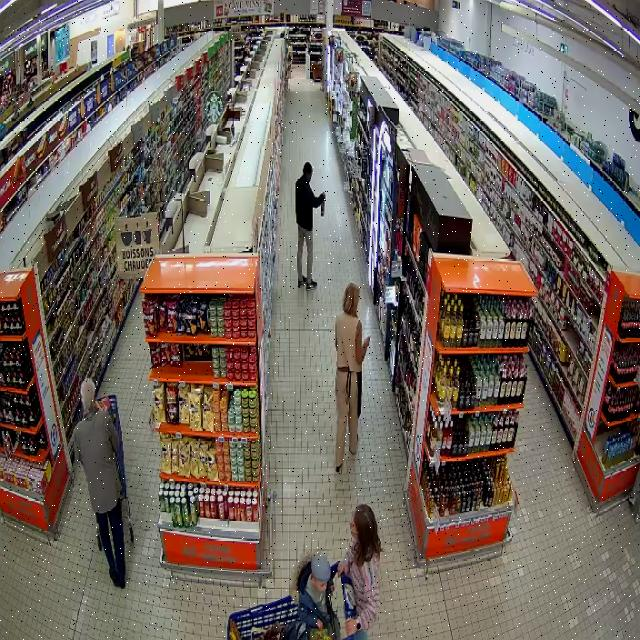article: (321, 200, 325, 217)
hands: (346, 618, 358, 636), (337, 560, 345, 576), (364, 337, 369, 348), (330, 584, 335, 594), (320, 192, 325, 201), (318, 620, 322, 629)
person: (75, 378, 124, 588), (335, 282, 369, 472), (338, 504, 381, 639), (287, 553, 339, 639), (295, 162, 325, 289)
